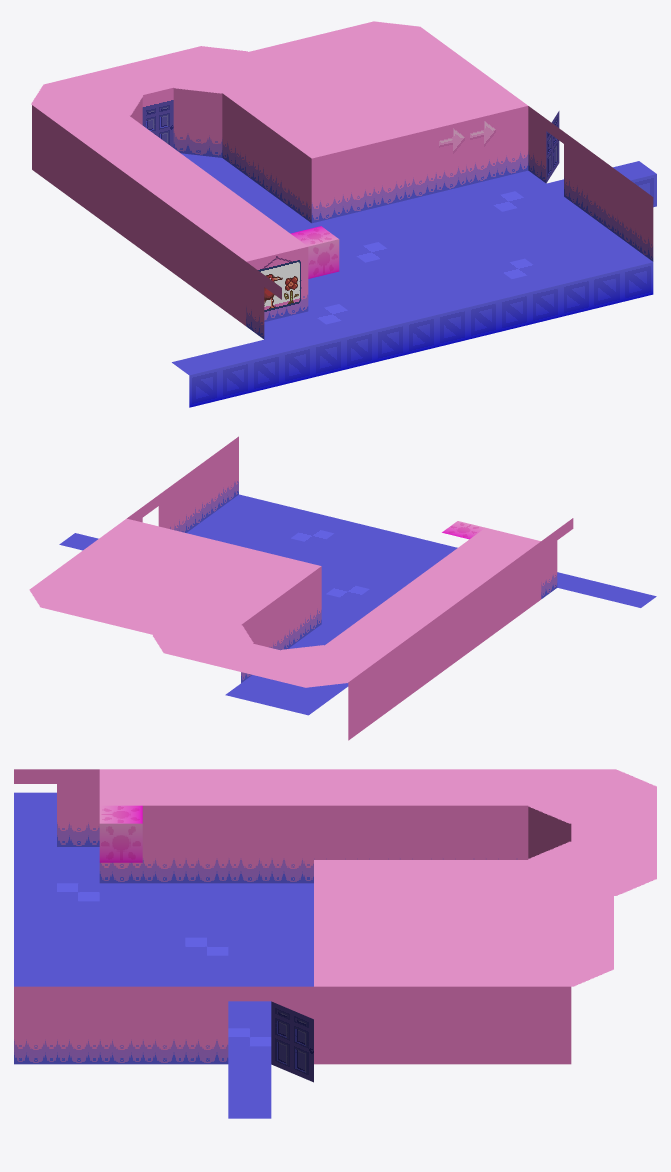
Rendered from level1-room1.glb.
3 renders of one model, top to bottom at view 1: azimuth 30°, elevation 25°; view 2: azimuth 150°, elevation 25°; view 3: azimuth 270°, elevation 25°, orthographic. The views are drawn at different scales.
Parts seen in each view (by area): view 1: default; view 2: default; view 3: default.
Boxes of the visible parts, box(x1,y1,x2,y2) form: default: box(31, 21, 656, 407); default: box(29, 436, 656, 740); default: box(14, 769, 656, 1118).
Size of the model in its own units: 18 by 3 by 15.
1 material, 1 textured.
